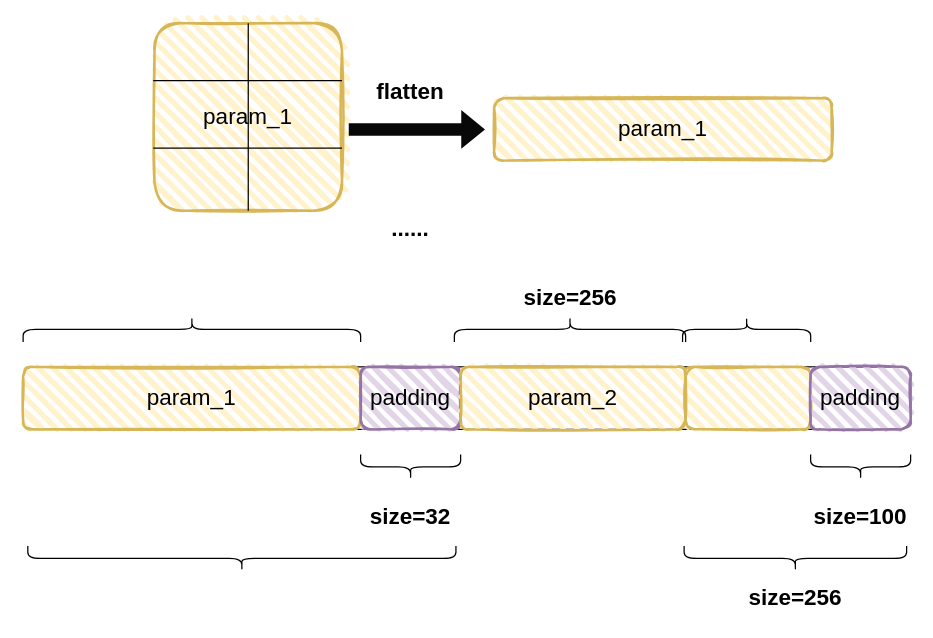
Image size: 933x638. Some labels were removed from this diagram. Here are the shapes that lost their labels. From the top down, the box of each, then its label:
(22, 316, 361, 342): size=480
(681, 316, 811, 342): size=156
(684, 365, 811, 430): param_3
(27, 545, 456, 571): size=512
